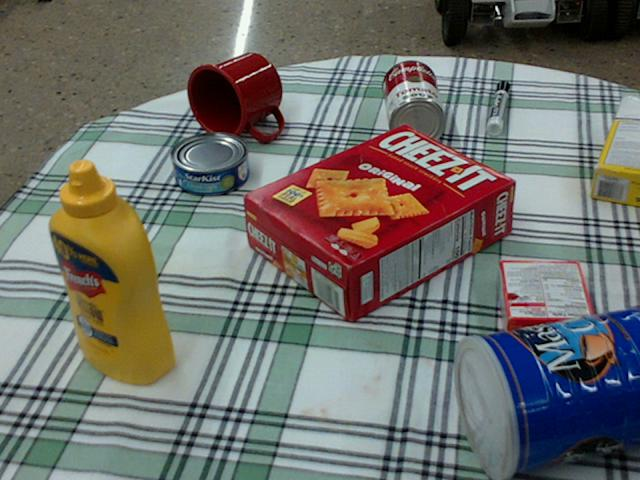cracker_box: (243, 125, 516, 322)
gelatin_box: (497, 260, 595, 338)
large_marker: (485, 81, 510, 133)
master_chef_can: (454, 302, 639, 479)
mug: (186, 52, 282, 139)
mustard_bottle: (48, 159, 175, 383)
sugar_box: (593, 95, 639, 207)
tomato_soup_can: (382, 59, 445, 146)
tuna_fish_can: (169, 131, 248, 194)
